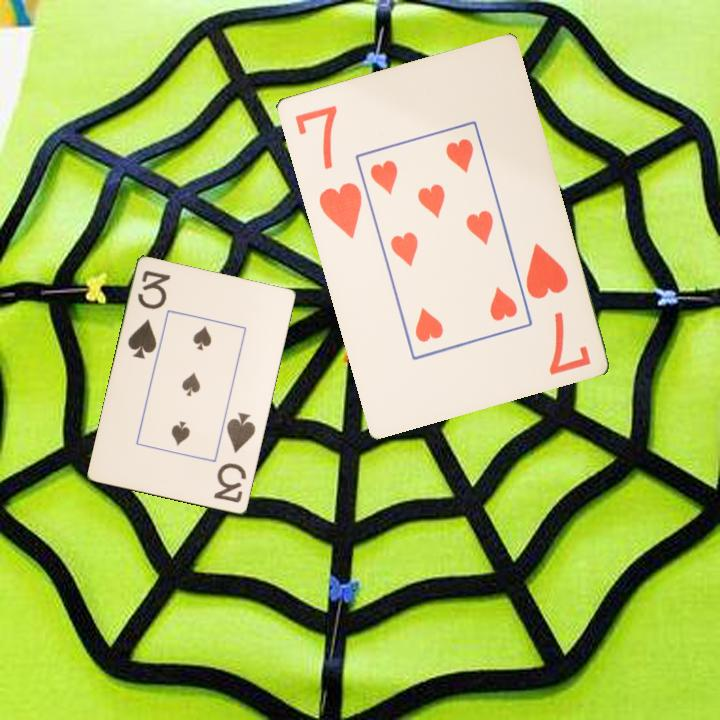3s: (210, 409, 259, 506), (124, 267, 173, 362)
7h: (291, 101, 365, 242), (521, 239, 593, 377)
